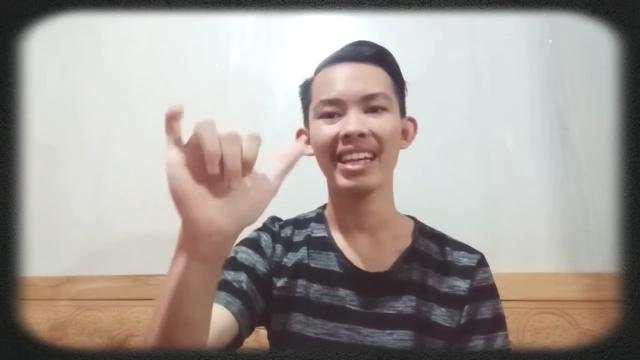Y: (150, 107, 306, 233)
